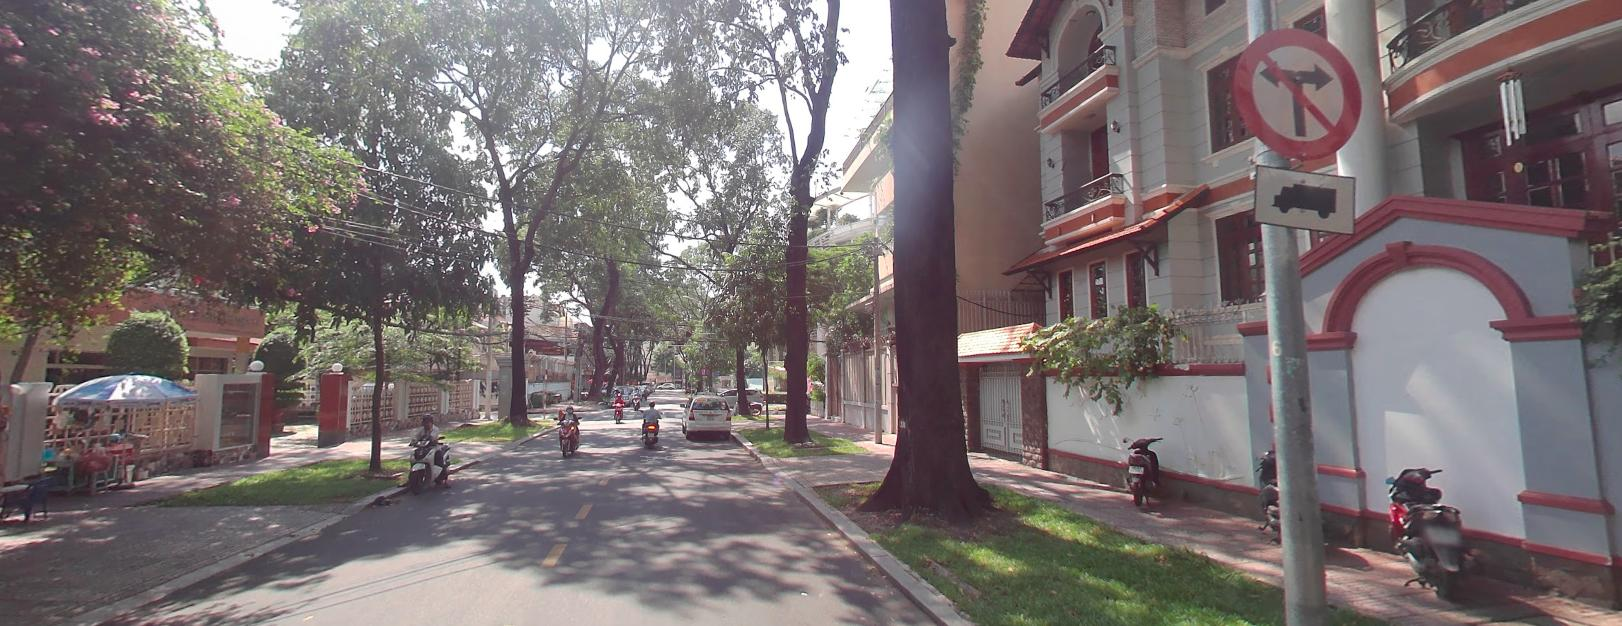Cam dung va do: (699, 366, 706, 373)
Cam re: (1230, 25, 1359, 159)
